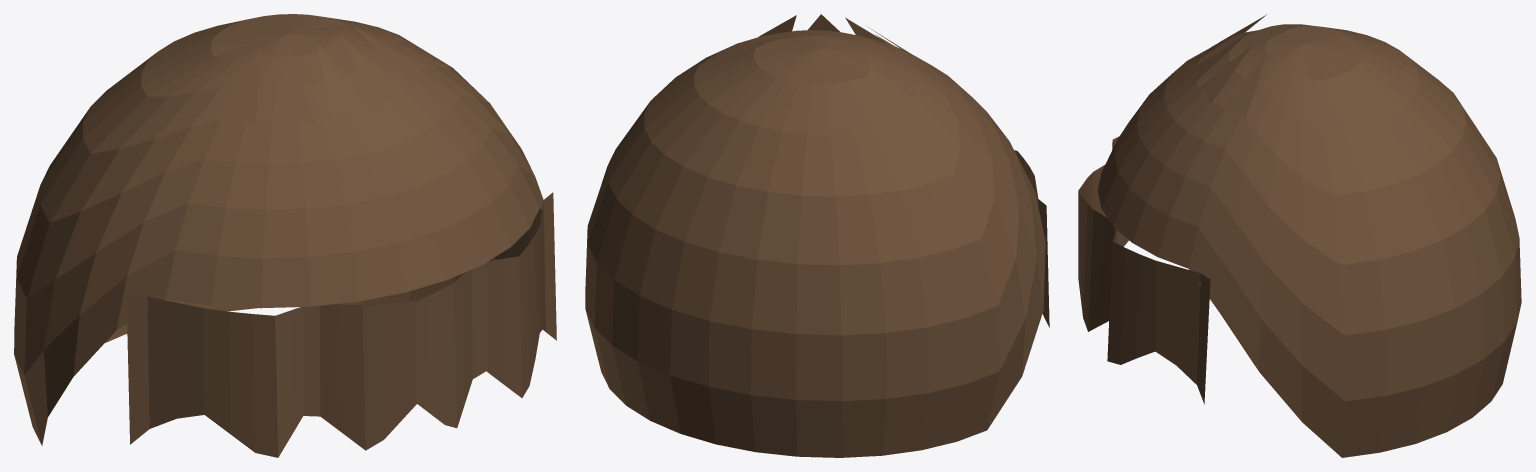
The model's file is hair-boy.glb.
3 renders of one model, left to right at view 1: azimuth 30°, elevation 25°; view 2: azimuth 150°, elevation 25°; view 3: azimuth 270°, elevation 25°, orthographic. The views are drawn at different scales.
Parts seen in each view (by area): view 1: Hair_Boy; view 2: Hair_Boy; view 3: Hair_Boy.
Part boxes in pixels (x1,y1,x2,y2): Hair_Boy: (14,14,556,457); Hair_Boy: (585,14,1049,457); Hair_Boy: (1078,14,1521,457).
Size of the model in its own units: 0.5909 by 0.4529 by 0.5465.
